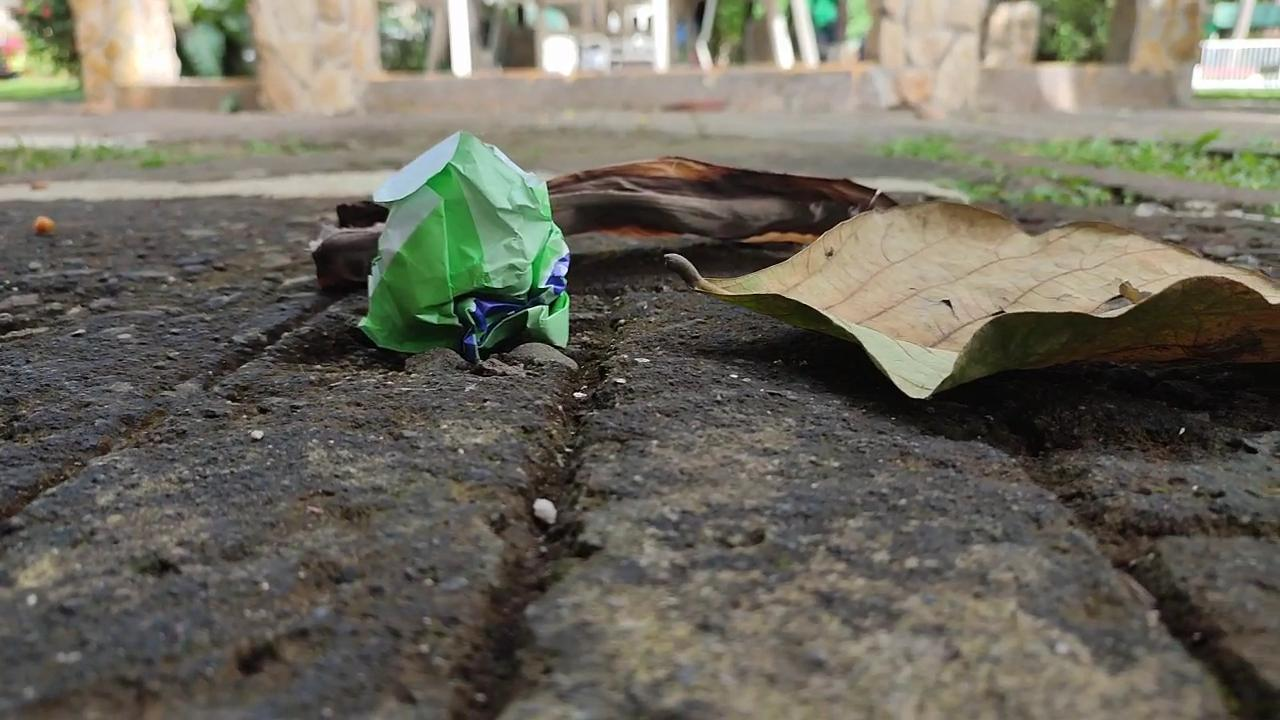Paper: (359, 118, 578, 379)
